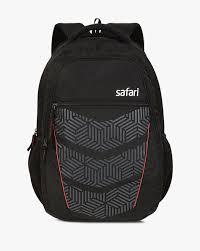backpack: (26, 17, 173, 222)
